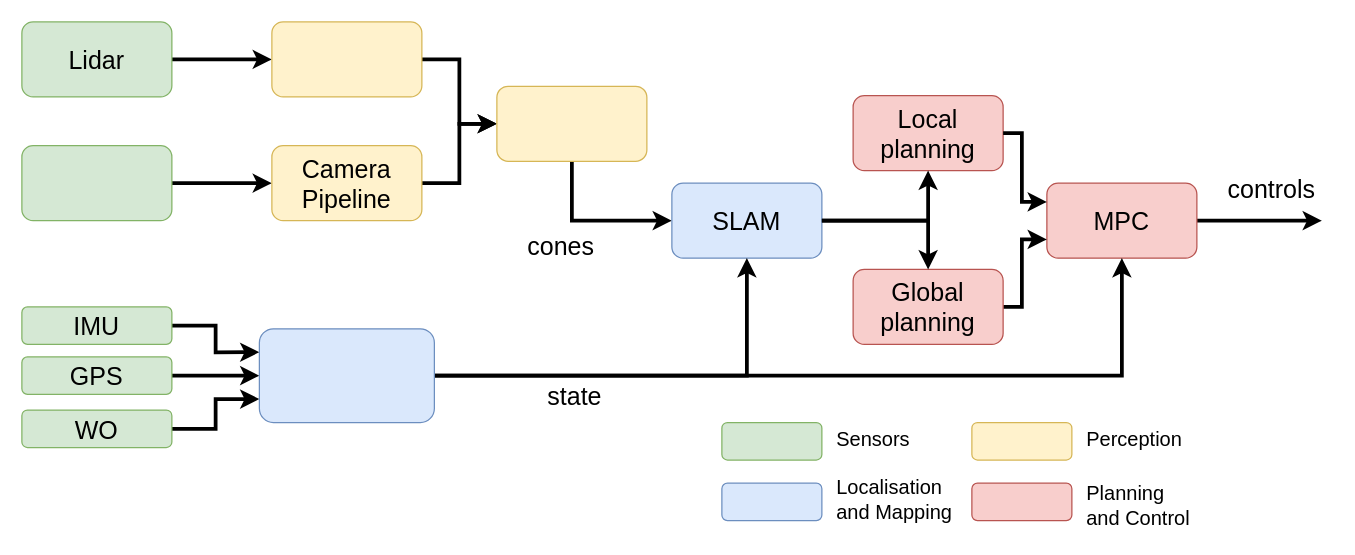
Image size: 1355x555. Some labels were removed from this diagram. The shapes that lost their labels are listed below. From the top down, each one's box as (x1, y1, x2, y2) in pixels, then its label:
(271, 21, 422, 97): Lidar Pipeline
(496, 85, 647, 161): Object Fusion
(21, 144, 172, 221): Camera
(258, 328, 434, 422): EKF Localisation
